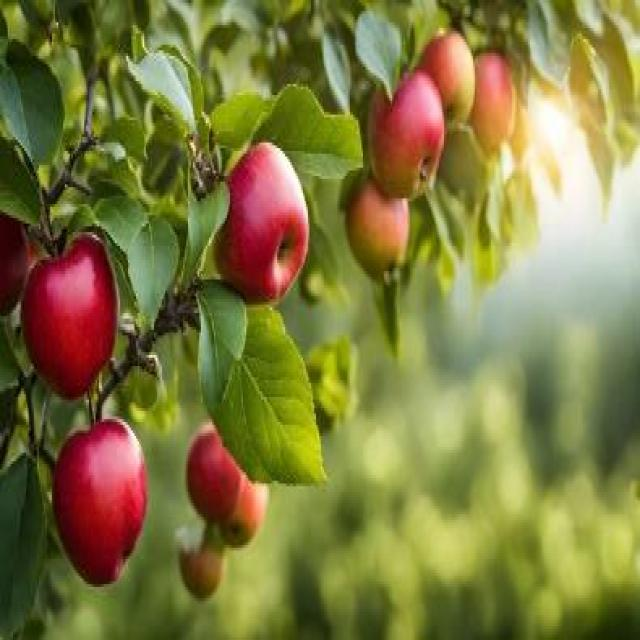fruit: (52, 418, 146, 584), (212, 142, 308, 303), (22, 236, 117, 397), (368, 70, 446, 198), (182, 418, 240, 534), (344, 180, 410, 280), (417, 30, 474, 123), (468, 51, 517, 155), (0, 207, 36, 313), (219, 476, 268, 548), (179, 533, 224, 600)
